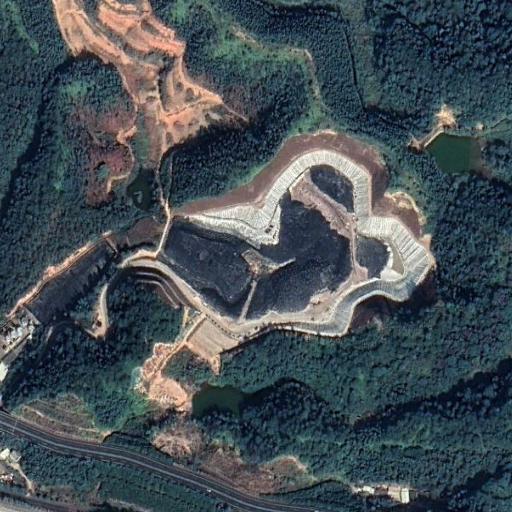lf: (160, 152, 434, 337)
